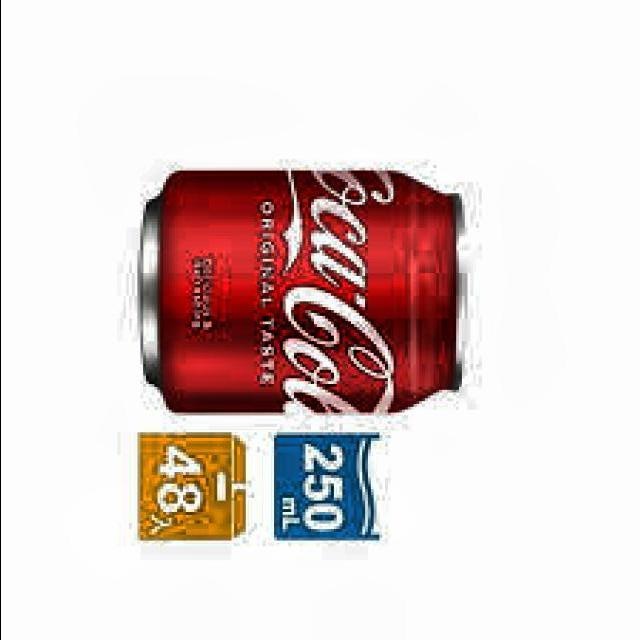Aluminum Can: (122, 161, 476, 423)
